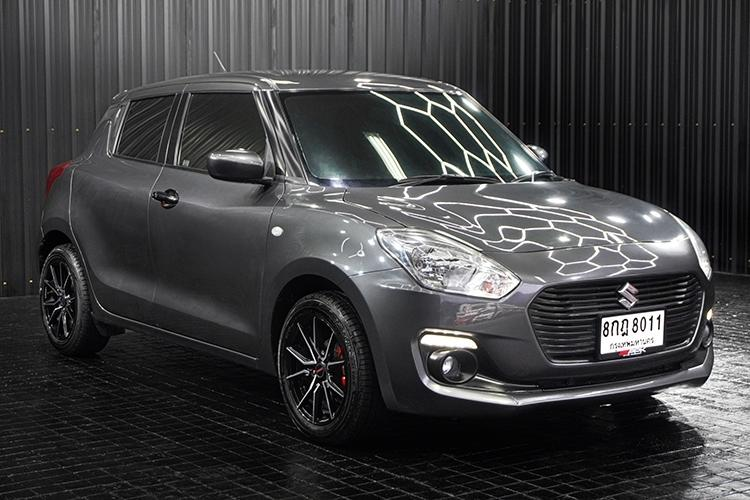license-plate: (595, 309, 668, 359)
